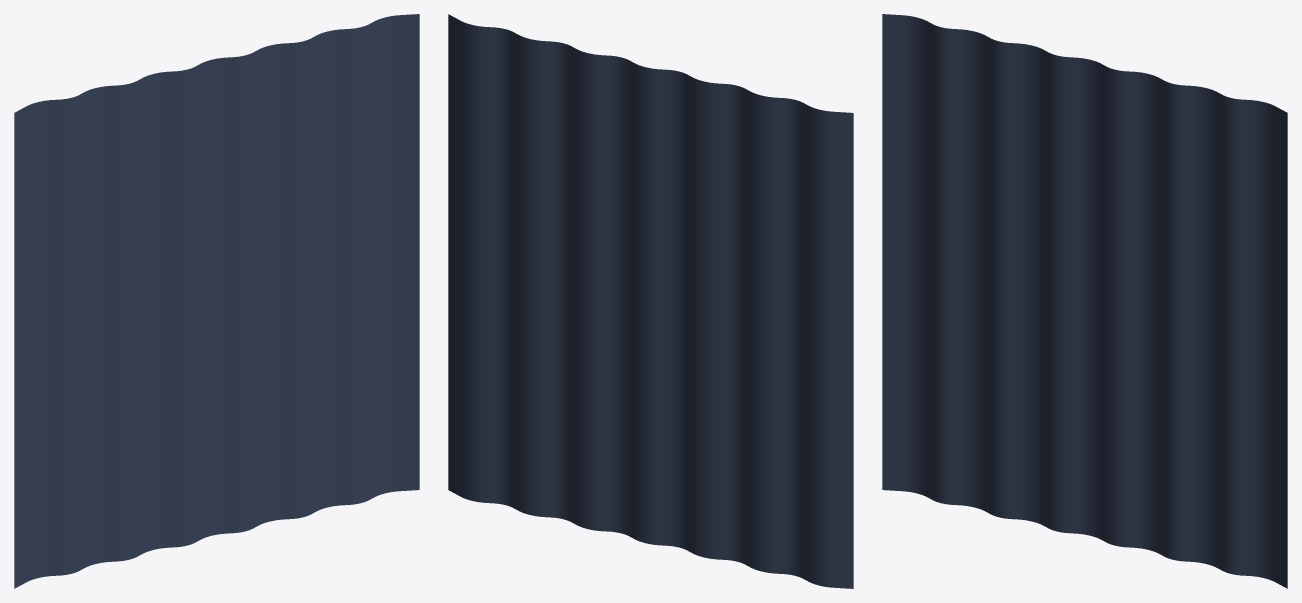
The model's file is thiec.fbx.
3 views of the same model, side by side, from view 1: azimuth 30°, elevation 25°; view 2: azimuth 150°, elevation 25°; view 3: azimuth 330°, elevation 25° (orthographic).
Visible parts, largest first — view 1: Plane; view 2: Plane; view 3: Plane.
Boxes of the visible parts, bbox=[...] form: Plane: bbox=[14, 14, 419, 588]; Plane: bbox=[448, 14, 853, 588]; Plane: bbox=[882, 14, 1287, 588].
Bounding box in the file's own units: 240 × 269 × 5.32.
